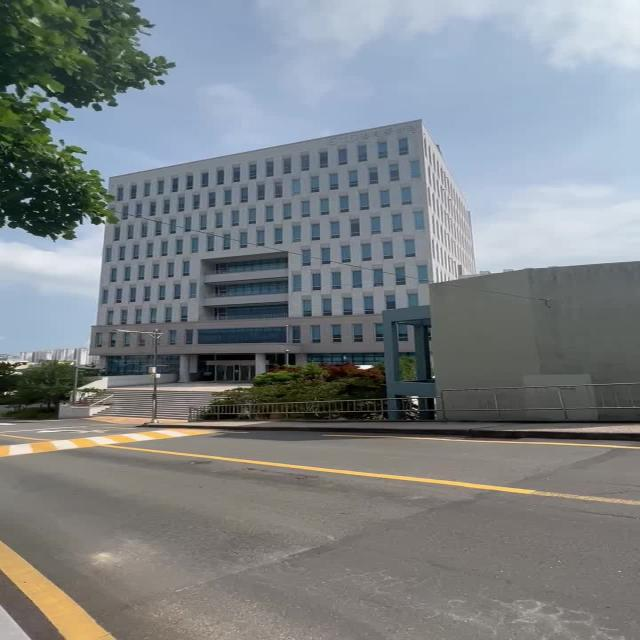building: (90, 113, 450, 379)
